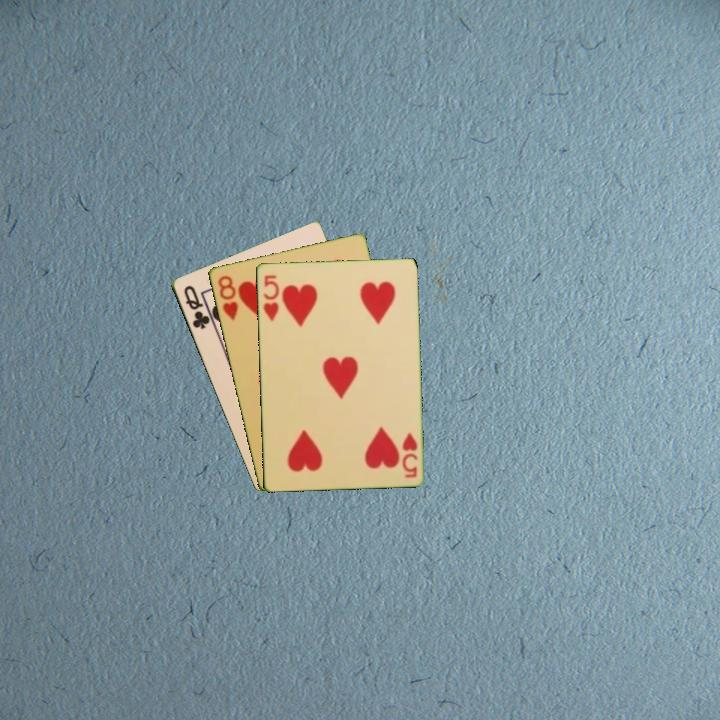5h: (259, 271, 281, 324), (399, 428, 420, 480)
8h: (214, 272, 241, 323)
Qc: (180, 282, 212, 332)
